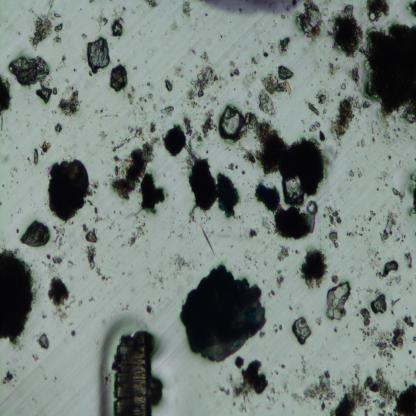Background material: (221, 105, 324, 207), (364, 24, 416, 124), (112, 334, 164, 415), (334, 364, 416, 415), (0, 250, 35, 349), (110, 136, 160, 202), (47, 158, 92, 220), (324, 1, 366, 64), (6, 56, 58, 103), (182, 153, 216, 218), (292, 369, 336, 412), (257, 66, 293, 115), (228, 360, 267, 405), (186, 62, 224, 106), (332, 99, 369, 141), (274, 206, 317, 240), (295, 0, 327, 45), (161, 116, 197, 156), (324, 274, 352, 325), (189, 211, 220, 257), (374, 318, 406, 361), (48, 275, 76, 323), (29, 8, 62, 46), (302, 247, 329, 291), (140, 171, 166, 215), (372, 122, 416, 146), (86, 35, 111, 77), (378, 148, 402, 191), (112, 124, 145, 153), (136, 258, 166, 288), (20, 220, 52, 248), (346, 211, 376, 240), (378, 214, 406, 244), (56, 91, 82, 119), (358, 307, 378, 342), (198, 107, 216, 144), (347, 130, 378, 151), (376, 259, 401, 283), (108, 65, 129, 93), (0, 74, 11, 127), (365, 0, 390, 23), (84, 230, 98, 270), (292, 317, 311, 346), (168, 58, 187, 86), (128, 221, 147, 247), (369, 291, 388, 316), (161, 13, 178, 38), (266, 384, 281, 412), (407, 172, 416, 218), (238, 143, 255, 167), (308, 120, 326, 142), (92, 106, 118, 121), (110, 12, 124, 38), (0, 368, 18, 388), (51, 224, 66, 248), (172, 253, 188, 275), (316, 86, 329, 112), (35, 331, 50, 352), (277, 36, 291, 58), (275, 242, 290, 262), (244, 75, 256, 100), (325, 206, 342, 222), (391, 186, 406, 204), (96, 122, 110, 141), (45, 253, 64, 267), (307, 99, 321, 117), (227, 61, 241, 79), (96, 8, 109, 27), (91, 204, 104, 223), (327, 229, 339, 249), (350, 64, 360, 88), (96, 267, 112, 282), (404, 0, 416, 18), (276, 270, 286, 291), (349, 166, 364, 180), (126, 85, 137, 104), (388, 298, 400, 315), (31, 146, 40, 168), (143, 300, 154, 318), (326, 62, 338, 78), (182, 1, 192, 20), (234, 353, 245, 370), (403, 251, 413, 269), (161, 105, 175, 117), (52, 122, 64, 135), (248, 227, 259, 241), (164, 78, 174, 93), (40, 140, 52, 152), (199, 48, 209, 62), (404, 315, 414, 329), (140, 93, 151, 105), (87, 294, 97, 306), (249, 54, 258, 66), (315, 315, 324, 327), (145, 0, 158, 8), (148, 124, 158, 133), (267, 290, 276, 300), (274, 322, 282, 333), (70, 328, 76, 338), (340, 82, 346, 90), (262, 50, 268, 58), (280, 363, 286, 370), (87, 1, 96, 5)
Diatom: (305, 200, 319, 216)
Fragment: (181, 264, 267, 364), (214, 172, 237, 218), (255, 180, 280, 213)
Pen: (203, 0, 303, 14)
